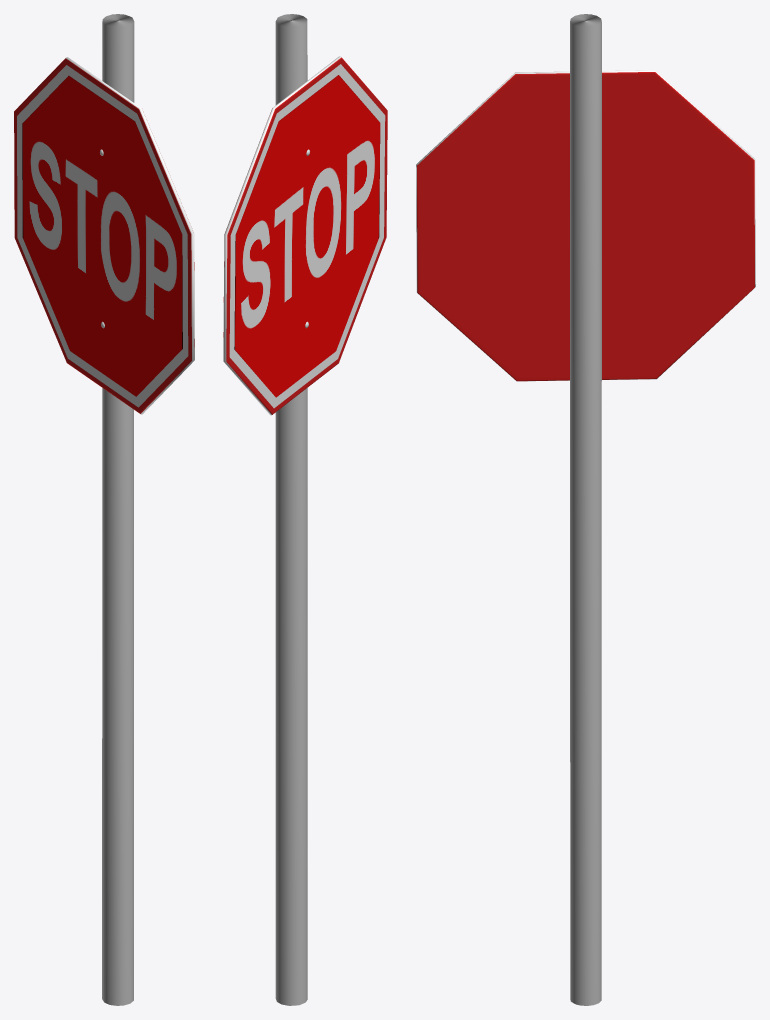
The model's file is stop_sign.glb.
3 renders of one model, left to right at view 1: azimuth 30°, elevation 25°; view 2: azimuth 150°, elevation 25°; view 3: azimuth 270°, elevation 25°, orthographic.
Visible parts, largest first — view 1: object 2, Cilindro; view 2: object 2, Cilindro; view 3: object 2, Cilindro.
Boxes of the visible parts, box(x1,y1,x2,y2) form: object 2: box(14, 57, 194, 414); Cilindro: box(102, 14, 134, 1005); object 2: box(223, 56, 387, 415); Cilindro: box(275, 14, 307, 1005); object 2: box(416, 70, 755, 381); Cilindro: box(570, 14, 601, 1005).
Bounding box in the file's own units: 0.0875 × 2.39 × 0.7505.
Materials: 5 (1 with a texture image).
